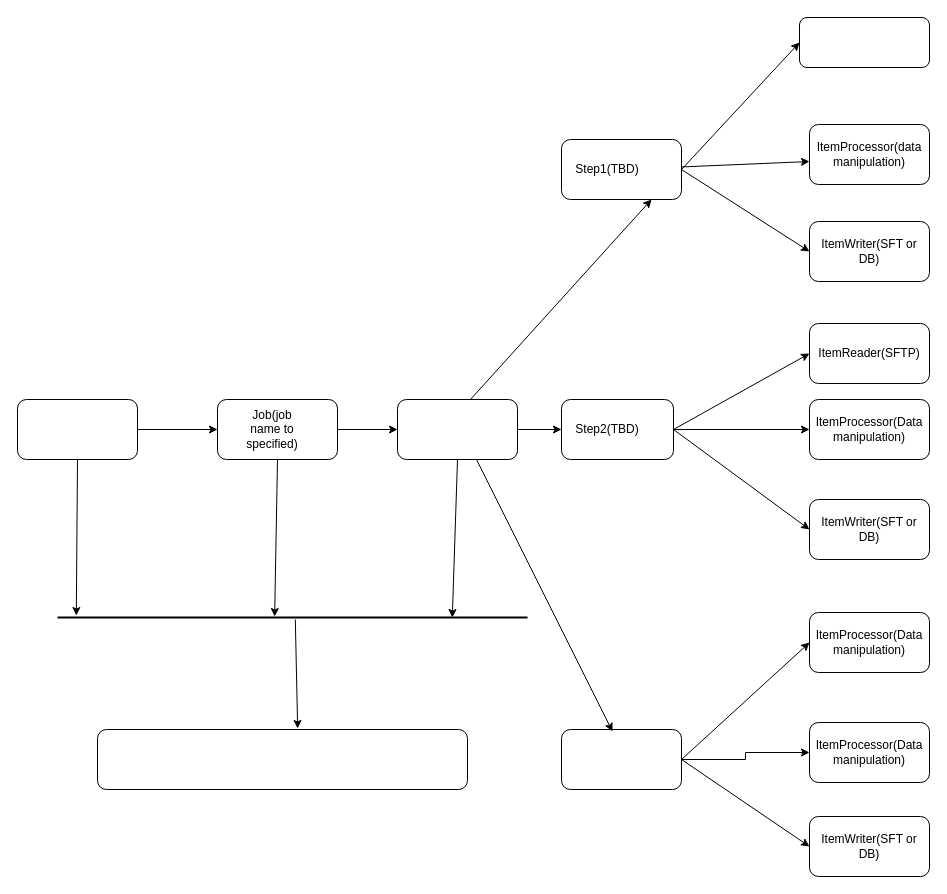
This 947x894 diagram has some shape labels left out. The shapes that lost their labels are listed below. From the top down, each one's centre as x and y in pixels, then its label:
At (864,42): "ItemReader(SFT)".
At (77,429): "JobScheduler".
At (457,429): "Master Step".
At (282,759): "JobRepository".
At (621,759): "Step3(TBD)".
